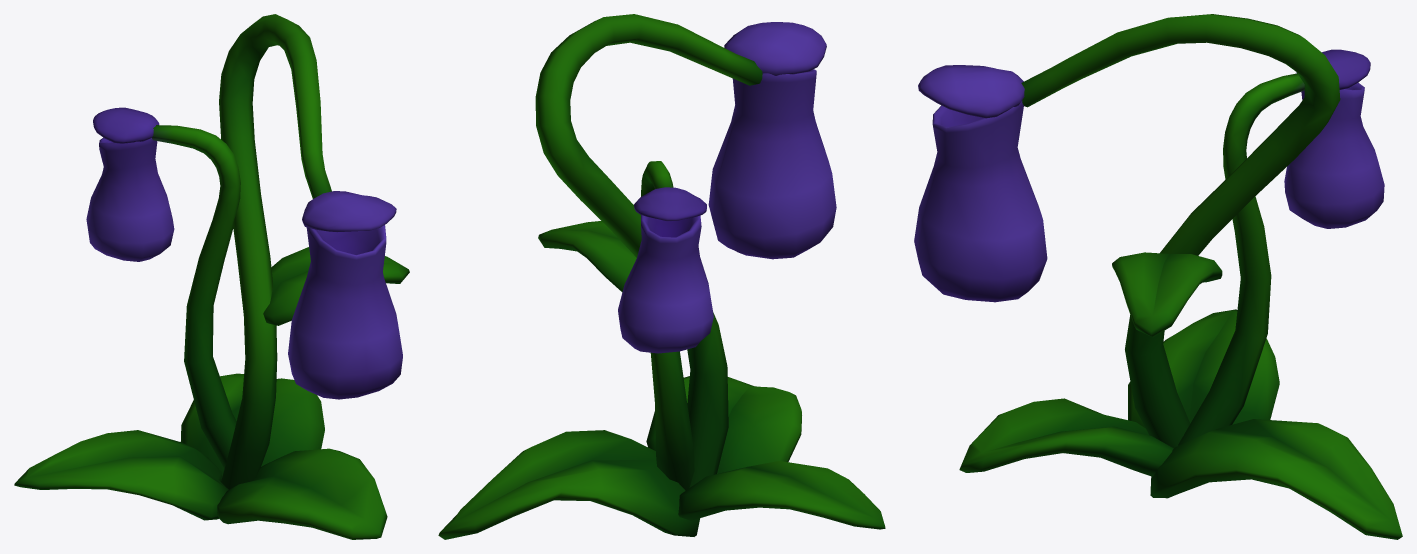
File: Plant_13.fbx
3 renders of one model, left to right at view 1: azimuth 30°, elevation 25°; view 2: azimuth 150°, elevation 25°; view 3: azimuth 270°, elevation 25°, orthographic. The views are drawn at different scales.
Visible parts, largest first — view 1: Plant_13; view 2: Plant_13; view 3: Plant_13.
Part boxes in pixels (bbox=[...]): Plant_13: bbox=[14, 14, 409, 539]; Plant_13: bbox=[438, 14, 885, 539]; Plant_13: bbox=[914, 14, 1402, 539].
Size of the model in its own units: 421 by 507 by 442.
